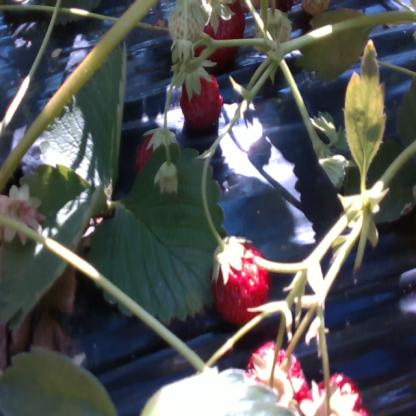ripe: (215, 241, 276, 321), (249, 349, 304, 403), (194, 0, 242, 59), (180, 72, 224, 130), (136, 130, 183, 183), (303, 380, 370, 416)
